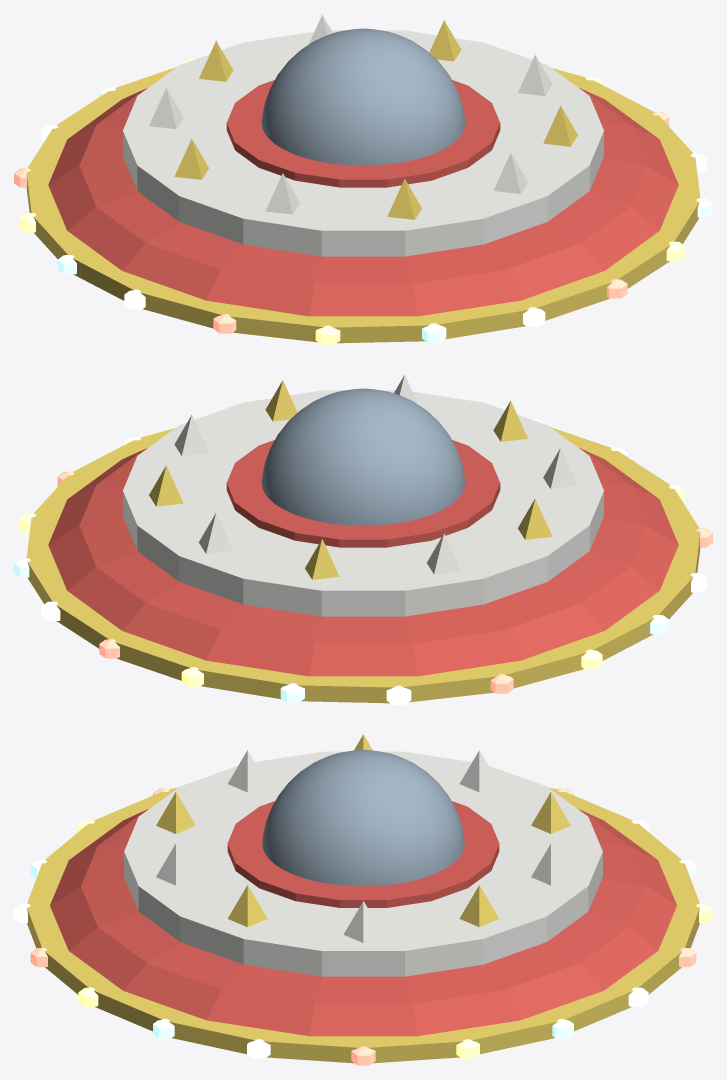
File: carnival.glb
3 renders of one model, top to bottom at view 1: azimuth 30°, elevation 25°; view 2: azimuth 150°, elevation 25°; view 3: azimuth 270°, elevation 25°, orthographic.
Parts seen in each view (by area): view 1: carnival, dome.010; view 2: carnival, dome.010; view 3: carnival, dome.010.
Boxes of the visible parts, x1=… form: carnival: x1=14, y1=15, x2=712, y2=345; dome.010: x1=261, y1=28, x2=465, y2=165; carnival: x1=14, y1=375, x2=712, y2=705; dome.010: x1=261, y1=388, x2=465, y2=525; carnival: x1=14, y1=734, x2=712, y2=1065; dome.010: x1=262, y1=750, x2=464, y2=886.
Size of the model in its own units: 5.12 by 1.77 by 5.14.
